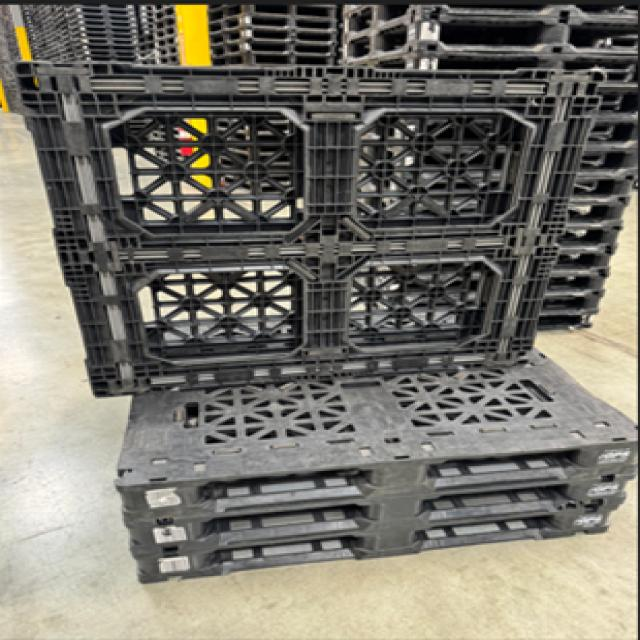igps: (0, 56, 638, 404), (110, 340, 640, 598), (333, 2, 640, 97), (200, 0, 344, 67), (16, 0, 146, 62)
